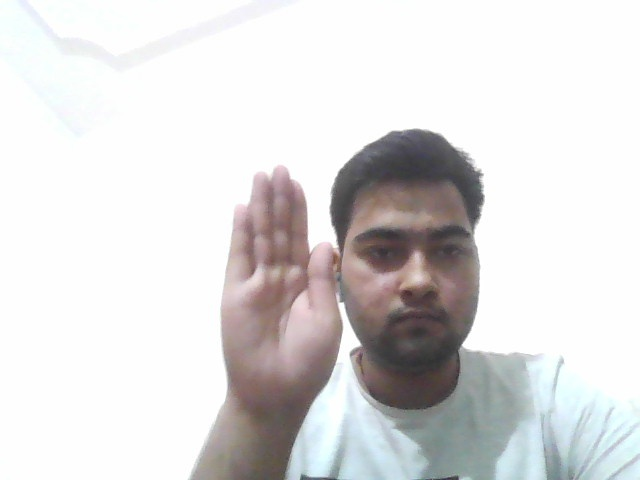Hello: (218, 161, 344, 417)
